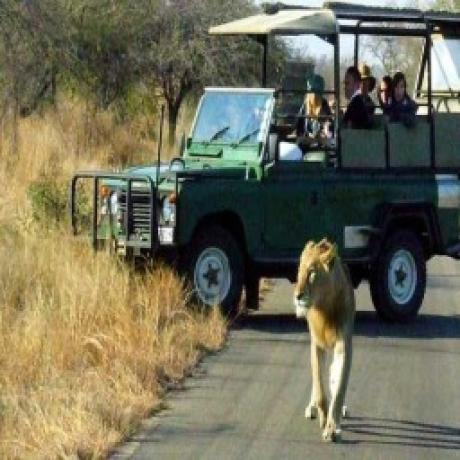Lion: (293, 232, 357, 442)
